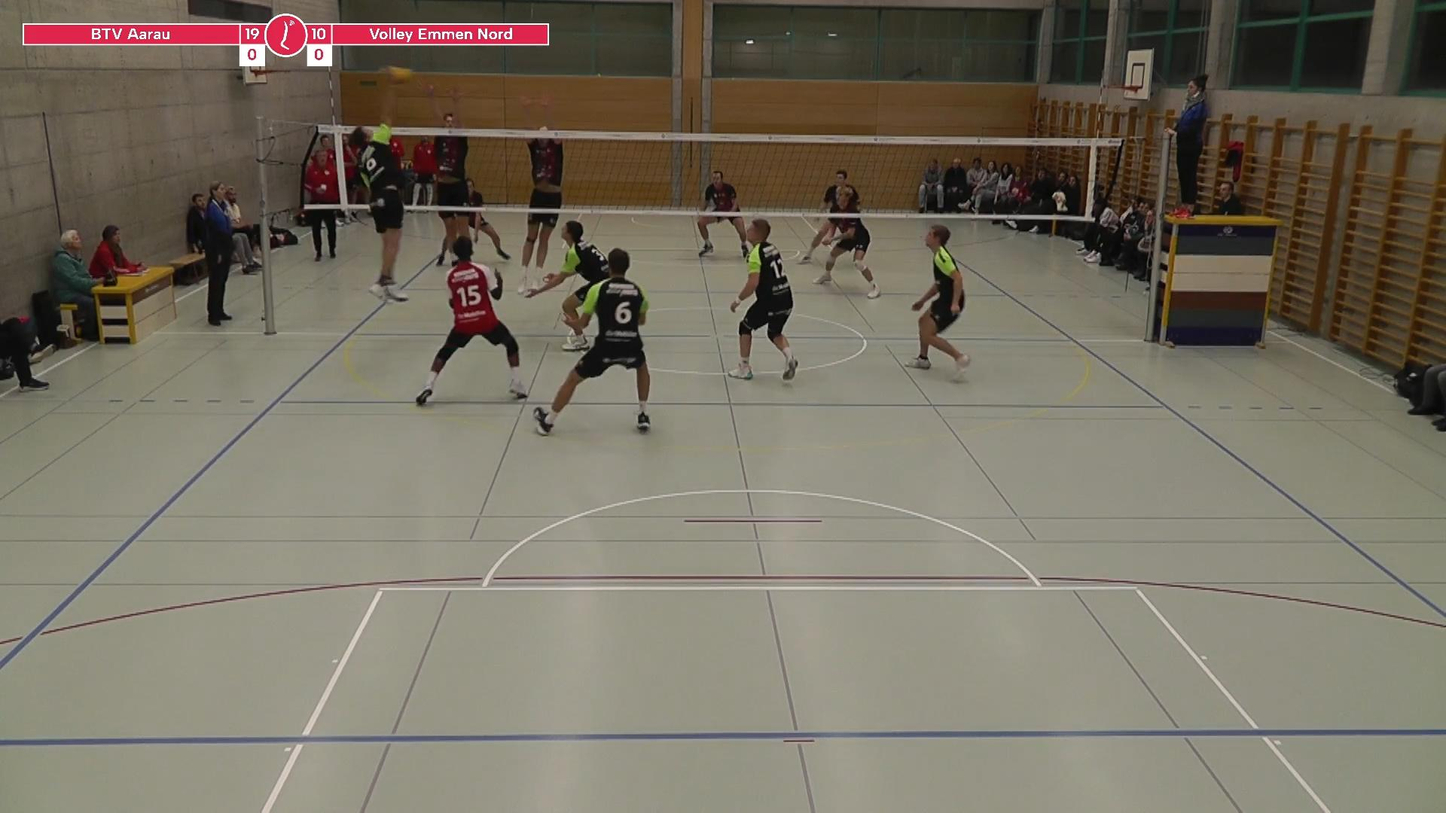Attack: (341, 91, 434, 303)
Block: (408, 75, 481, 274), (510, 85, 571, 280)
Player: (533, 248, 650, 434), (416, 236, 526, 404), (728, 220, 798, 380), (907, 225, 969, 380), (525, 221, 609, 304), (814, 216, 880, 298), (697, 170, 749, 257), (465, 178, 510, 260), (799, 220, 836, 263)
ball: (374, 55, 418, 85)
